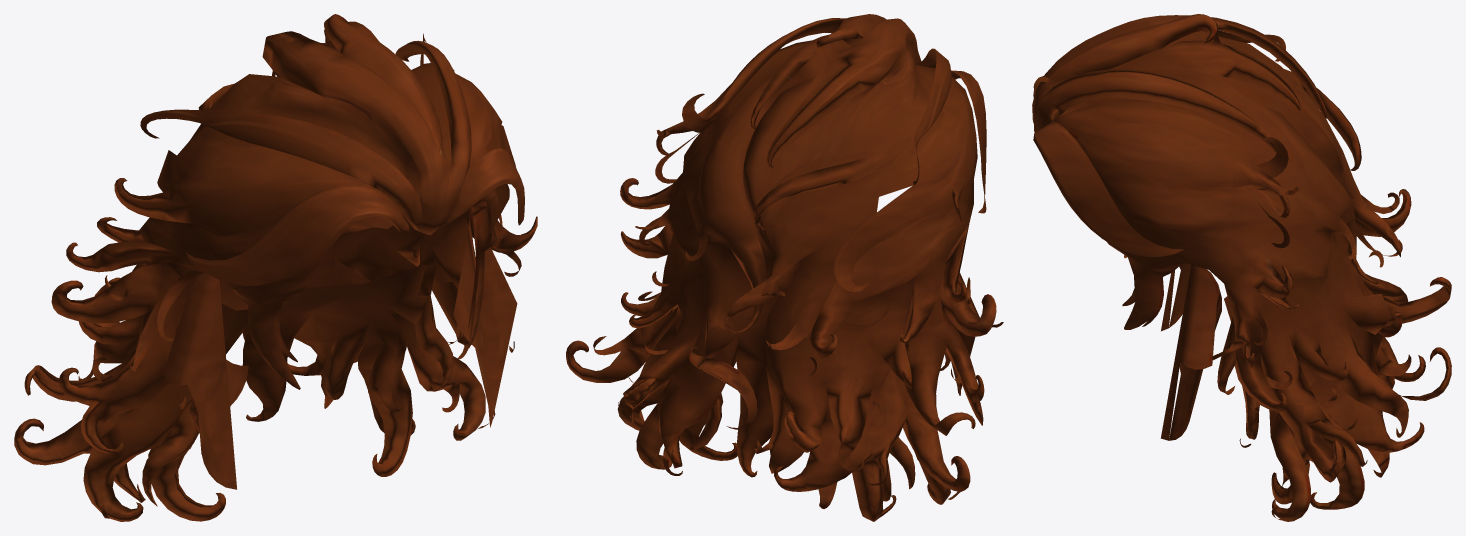
The model's file is hair.glb.
3 renders of one model, left to right at view 1: azimuth 30°, elevation 25°; view 2: azimuth 150°, elevation 25°; view 3: azimuth 270°, elevation 25°, orthographic. The views are drawn at different scales.
Visible parts, largest first — view 1: tripo_node_13cd8b89-ce23-45d0-b588-7d1d2c7609e1; view 2: tripo_node_13cd8b89-ce23-45d0-b588-7d1d2c7609e1; view 3: tripo_node_13cd8b89-ce23-45d0-b588-7d1d2c7609e1.
Part boxes in pixels (x1,y1,x2,y2): tripo_node_13cd8b89-ce23-45d0-b588-7d1d2c7609e1: (14, 14, 537, 521); tripo_node_13cd8b89-ce23-45d0-b588-7d1d2c7609e1: (566, 14, 1003, 521); tripo_node_13cd8b89-ce23-45d0-b588-7d1d2c7609e1: (1032, 14, 1451, 521).
Bounding box in the file's own units: 0.9995 × 0.9985 × 0.854.
1 material, 1 textured.
